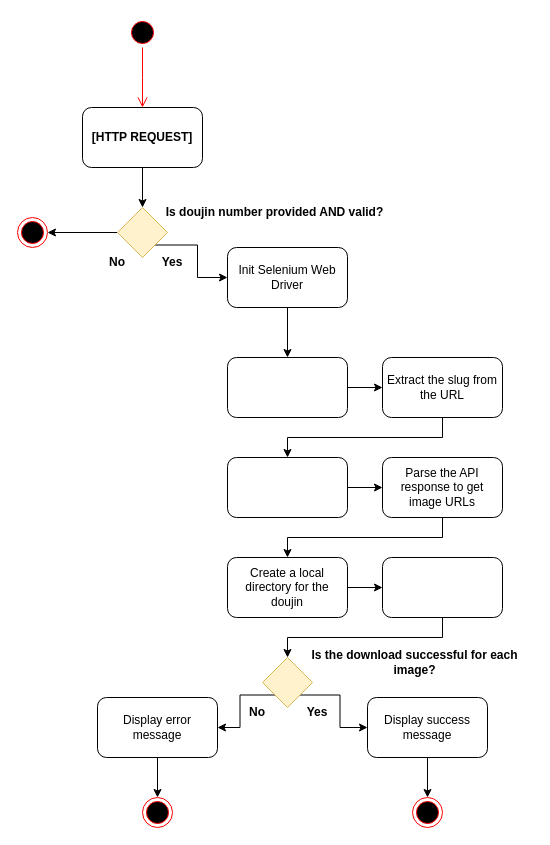
Image size: 550x845. Some labels were removed from this diagram. The box of each missing label's shape, as (x1, y1, x2, y2) in pixels:
Download each image using the requests library [NOT selenium driver!]: (382, 556, 502, 618)
Make a request to nhentai.com API for image URLs: (226, 456, 348, 518)
Make a request to nhentai.com to get doujin slug: (226, 356, 348, 418)
